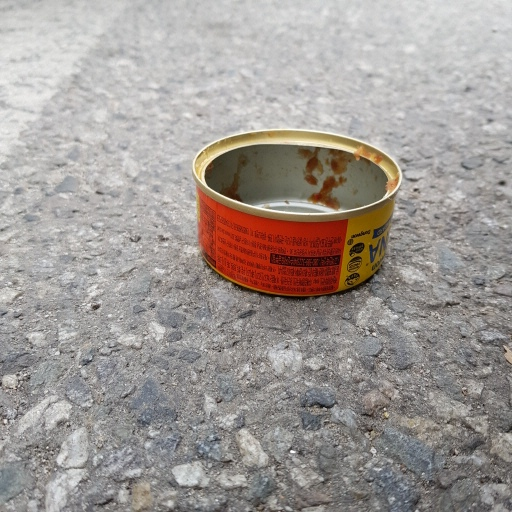Metal_1: (192, 126, 407, 295)
